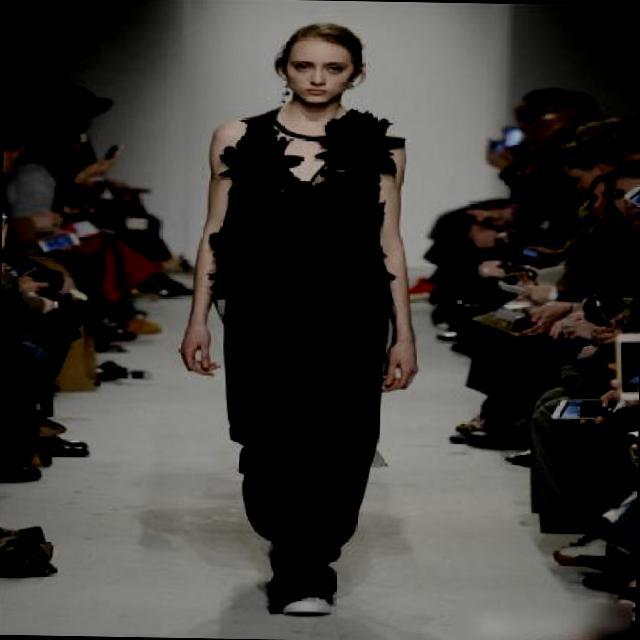Person: (154, 6, 446, 622)
